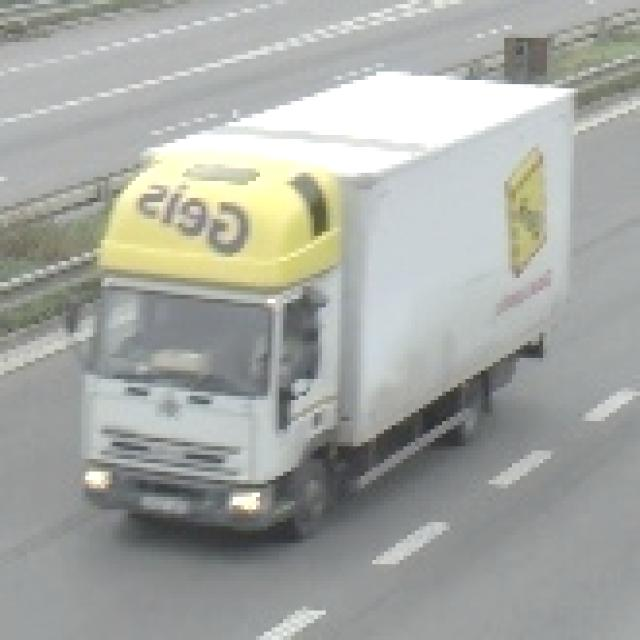truck: (63, 60, 571, 536)
